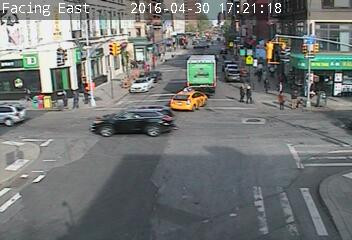neg: (265, 155, 303, 205), (134, 154, 171, 203), (90, 102, 119, 142), (20, 42, 49, 81), (180, 45, 208, 82), (82, 49, 109, 85), (49, 148, 75, 183), (15, 126, 41, 161), (151, 86, 176, 119), (299, 38, 323, 70), (217, 134, 241, 166), (311, 86, 331, 113), (227, 42, 245, 66), (266, 43, 282, 65), (248, 112, 264, 134)
pos: (68, 85, 85, 108), (233, 83, 249, 103), (287, 88, 302, 109), (54, 86, 69, 107), (275, 89, 289, 109)
